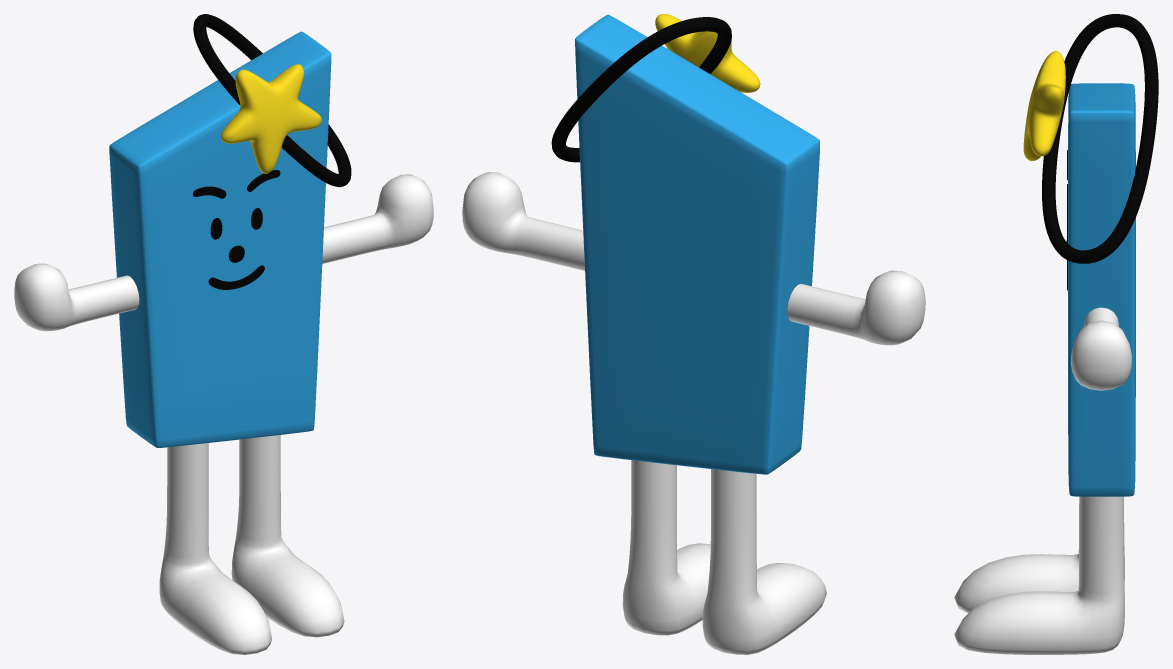
The model's file is jt_basic.glb.
3 views of the same model, side by side, from view 1: azimuth 30°, elevation 25°; view 2: azimuth 150°, elevation 25°; view 3: azimuth 270°, elevation 25° (orthographic). The views are drawn at different scales.
Parts seen in each view (by area): view 1: Cube.029, Cube.031, Cube.030, Plane.024, BézierCircle.004; view 2: Cube.029, Cube.031, Cube.030, BézierCircle.004, Plane.024; view 3: Cube.029, Cube.031, BézierCircle.004, Cube.030, Plane.024.
Boxes of the visible parts, left/top/right/bottom form: Cube.029: left=109, top=31, right=331, bottom=447; Cube.031: left=159, top=435, right=344, bottom=654; Cube.030: left=14, top=174, right=433, bottom=331; Plane.024: left=221, top=64, right=321, bottom=173; BézierCircle.004: left=193, top=14, right=351, bottom=187; Cube.029: left=575, top=14, right=819, bottom=474; Cube.031: left=622, top=460, right=826, bottom=654; Cube.030: left=462, top=172, right=925, bottom=345; BézierCircle.004: left=551, top=17, right=731, bottom=162; Plane.024: left=655, top=14, right=760, bottom=92; Cube.029: left=1068, top=83, right=1135, bottom=496; Cube.031: left=954, top=496, right=1124, bottom=654; BézierCircle.004: left=1042, top=14, right=1158, bottom=263; Cube.030: left=1071, top=307, right=1131, bottom=390; Plane.024: left=1023, top=51, right=1065, bottom=160.
Bounding box in the file's own units: 2.43 × 3.25 × 0.9984.
